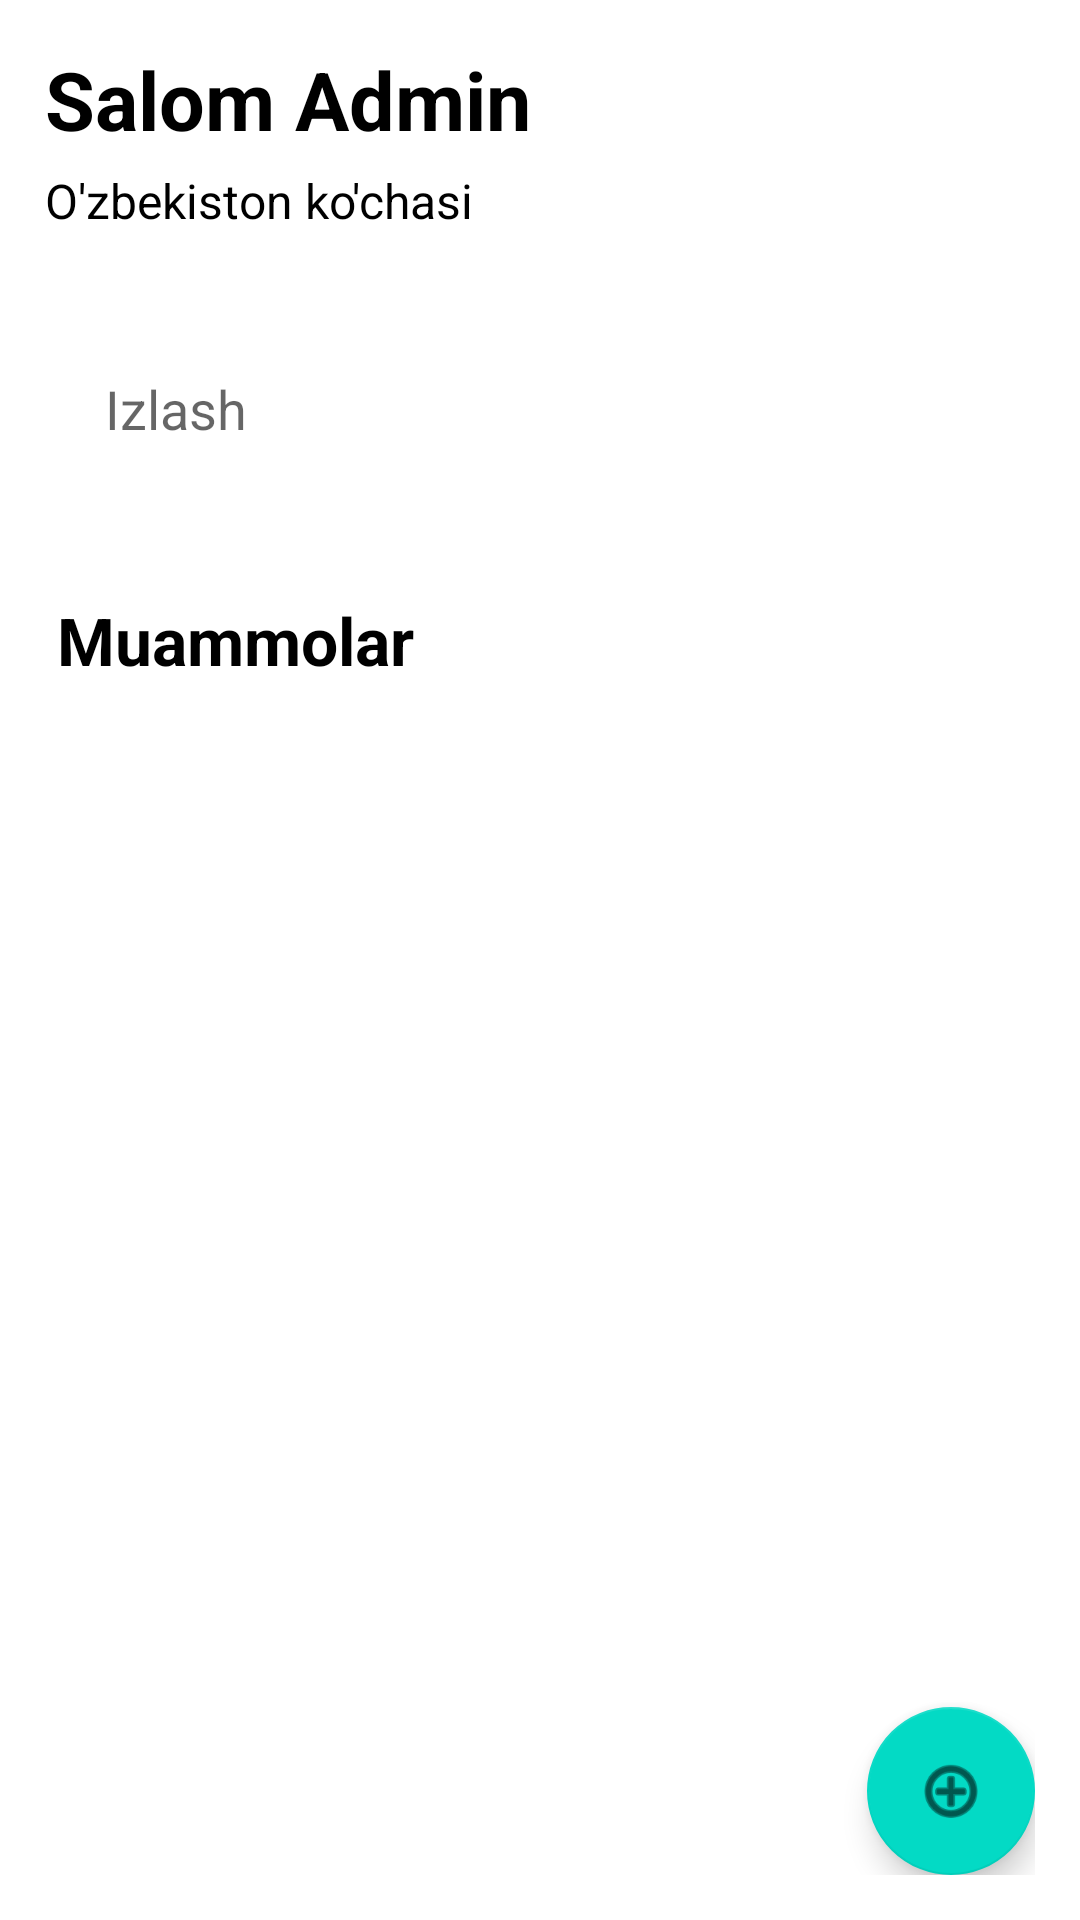

Icons on this 1080w x 1920h Android screen, each with its box as detection(x1, y1, x2, y2):
add: detection(867, 1707, 1035, 1875)
